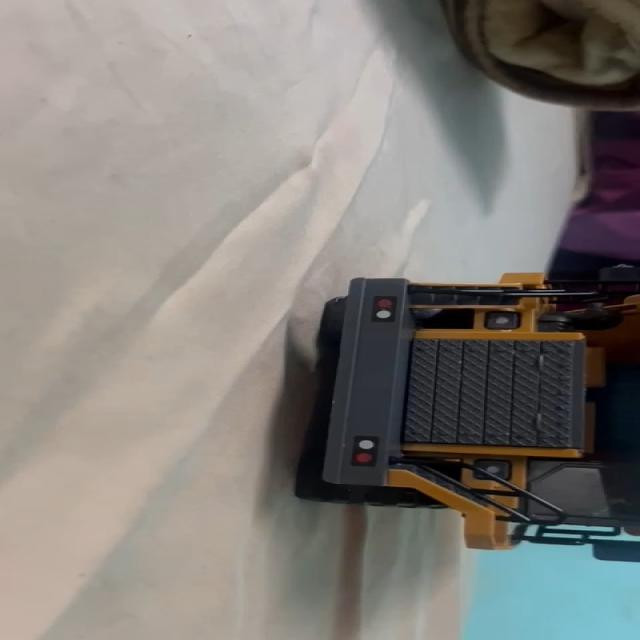dump_truck: (314, 276, 640, 552)
